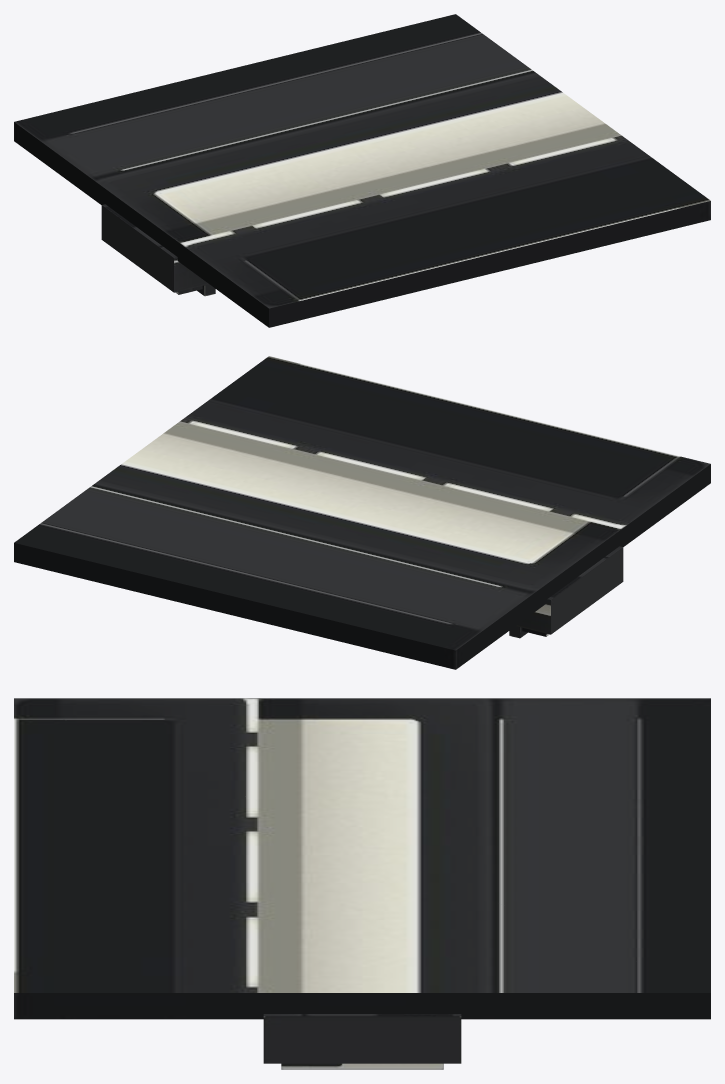
File: PR_lamp_panel_L0.glb
3 renders of one model, top to bottom at view 1: azimuth 30°, elevation 25°; view 2: azimuth 150°, elevation 25°; view 3: azimuth 270°, elevation 25°, orthographic. The views are drawn at different scales.
Parts seen in each view (by area): view 1: PR_lamp_panel_L0; view 2: PR_lamp_panel_L0; view 3: PR_lamp_panel_L0.
Boxes of the visible parts, x1,y1,x2,y2 form: PR_lamp_panel_L0: (14,14,710,327); PR_lamp_panel_L0: (14,356,710,669); PR_lamp_panel_L0: (14,698,710,1069).
Bounding box in the file's own units: 1.22 × 0.17 × 1.2.
Materials: 1 (1 with a texture image).
